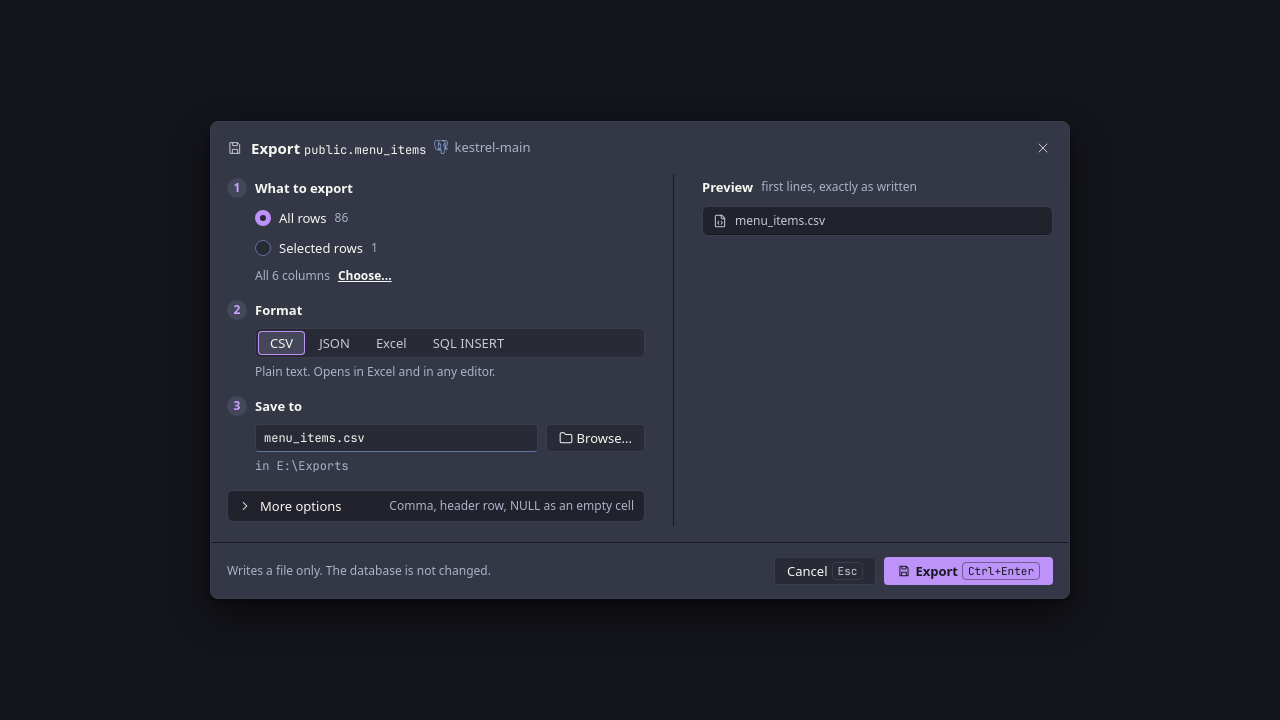
Scenario: more_options_open_and_close_with_its_summary
expect the text "Comma, header row, NULL as an empty cell" is shown: met, box [389,498,634,514]
Click the button "More options Comma, header row, NULL as an empty cell". click: {"x": 436, "y": 506}
box: [227,490,645,522]
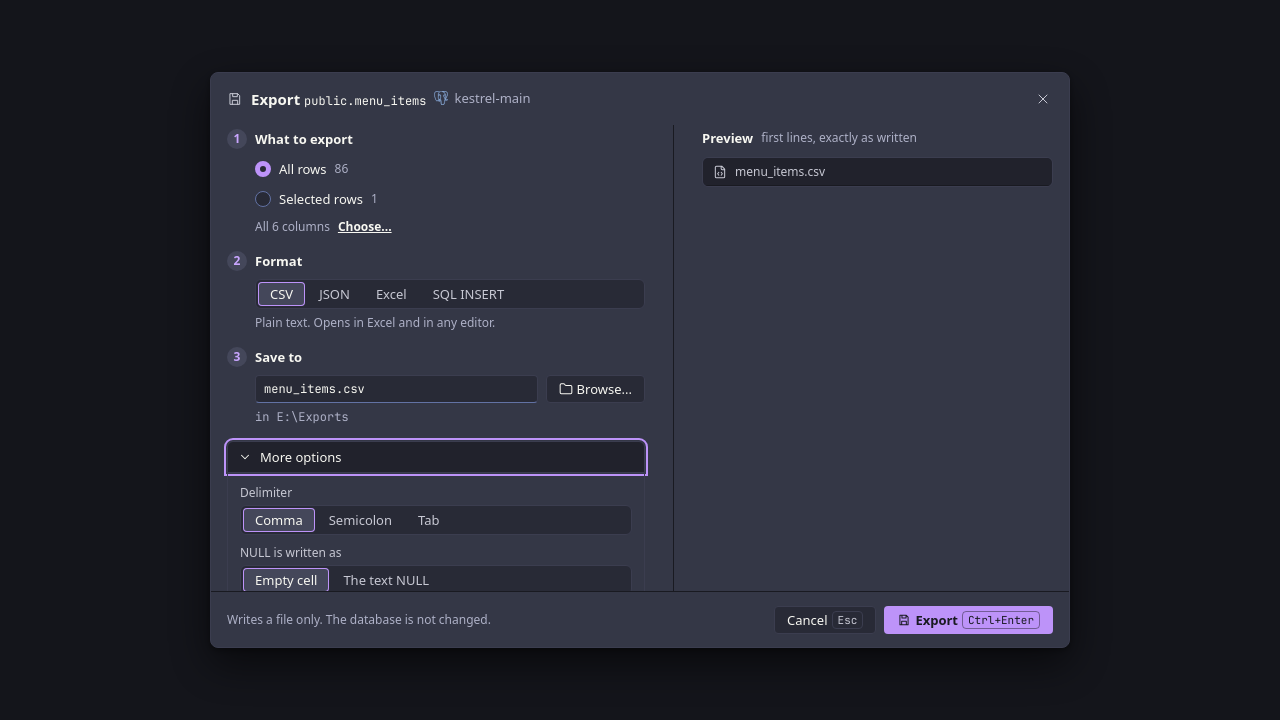
expect the button "More options" is expanded: met, box [227,441,645,473]
expect the element named "Delimiter" is shown: met, box [240,505,632,535]
expect the text "Comma, header row, NULL as an empty cell" is gone: met
Click the radio button labelled "Semicolon". click: {"x": 360, "y": 520}
box: [317,508,404,532]
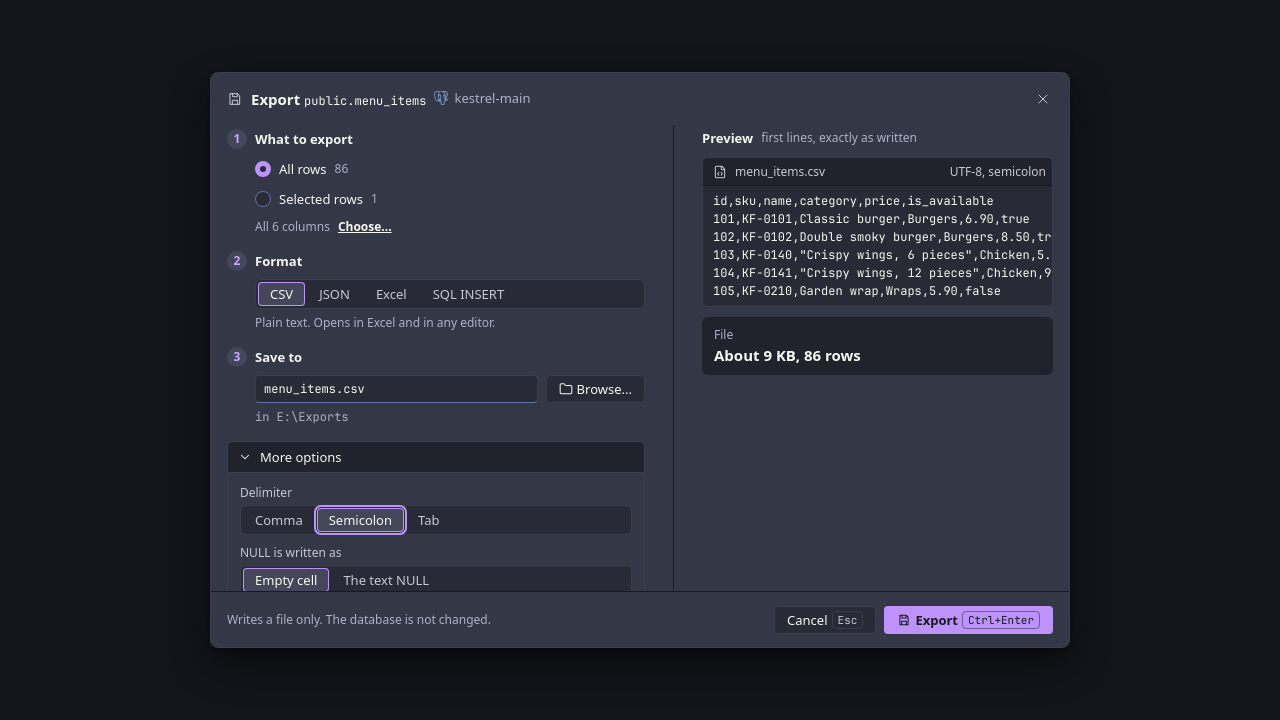
Click the button "More options". click: {"x": 301, "y": 457}
box: [227,441,645,473]
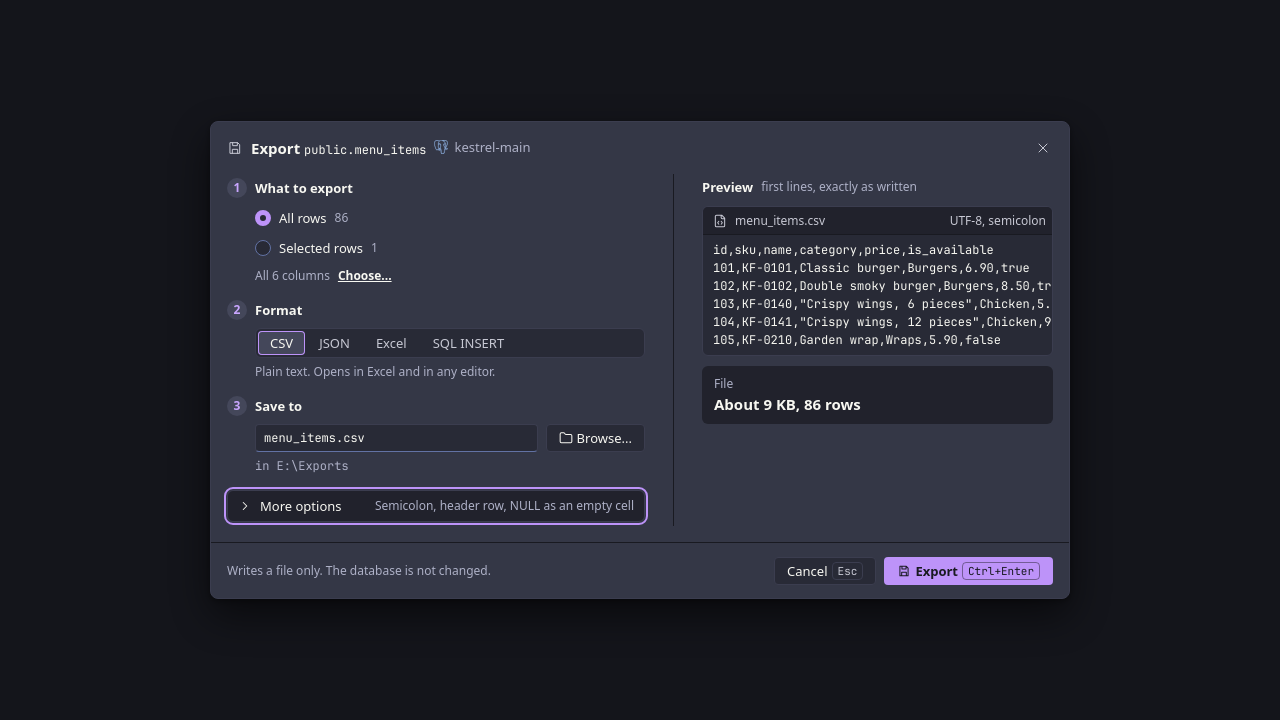
expect the text "About 9 KB, 86 rows" is shown: met, box [714,394,861,414]
expect the text "Semicolon, header row, NULL as an empty cell" is shown: met, box [375,498,634,514]
